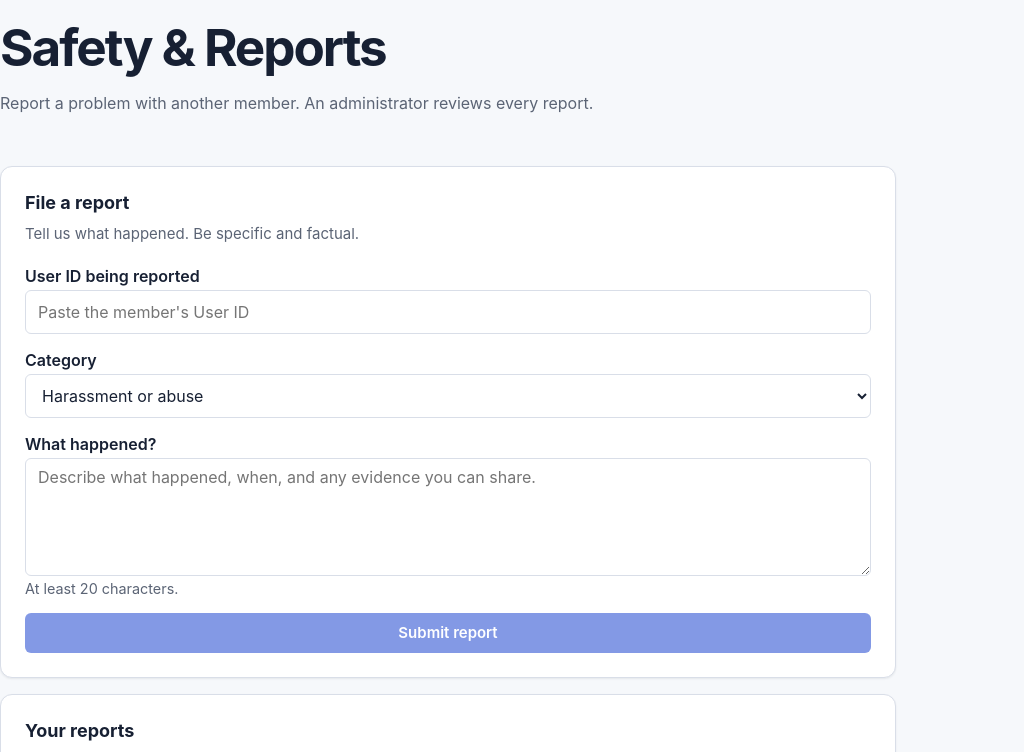
Test: integration: reports and safety page › files a real report and lists it with a status badge
In the field with placeholder "Paste the member's User ID": point(448, 312) x1=25 y1=290 x2=871 y2=334, type "00000000-0000-4000-8000-0000000000a1"
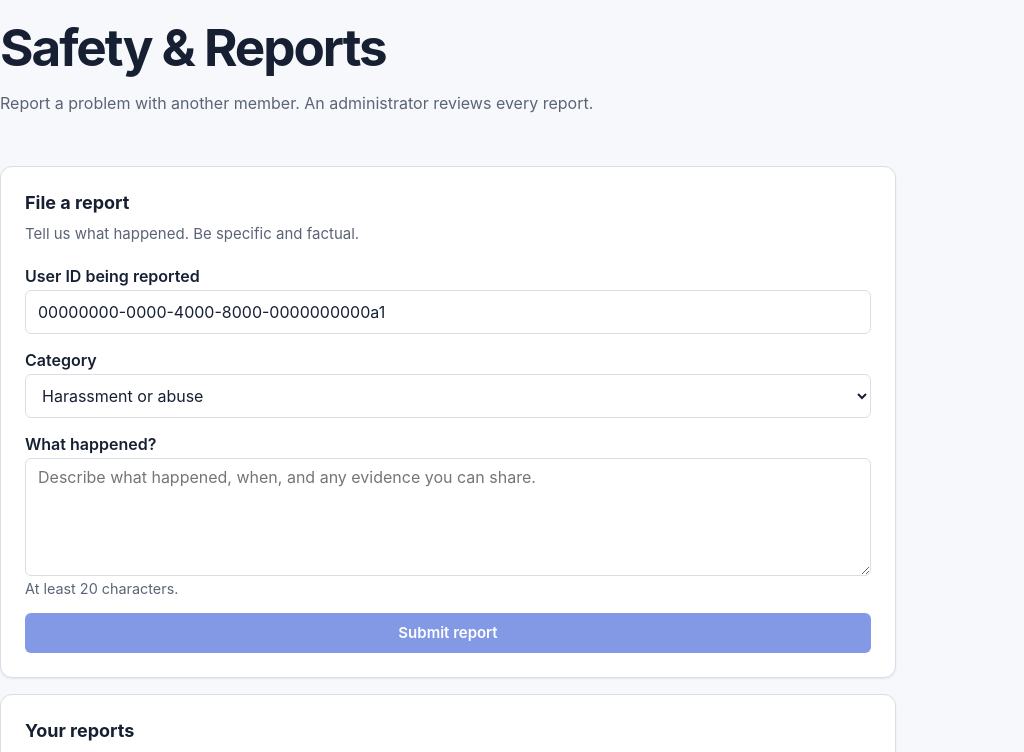
Replace the text in the text box with placeholder "Describe what happened" with "This member repeatedly sent abusive messages to me.": point(448, 517) x1=25 y1=458 x2=871 y2=576
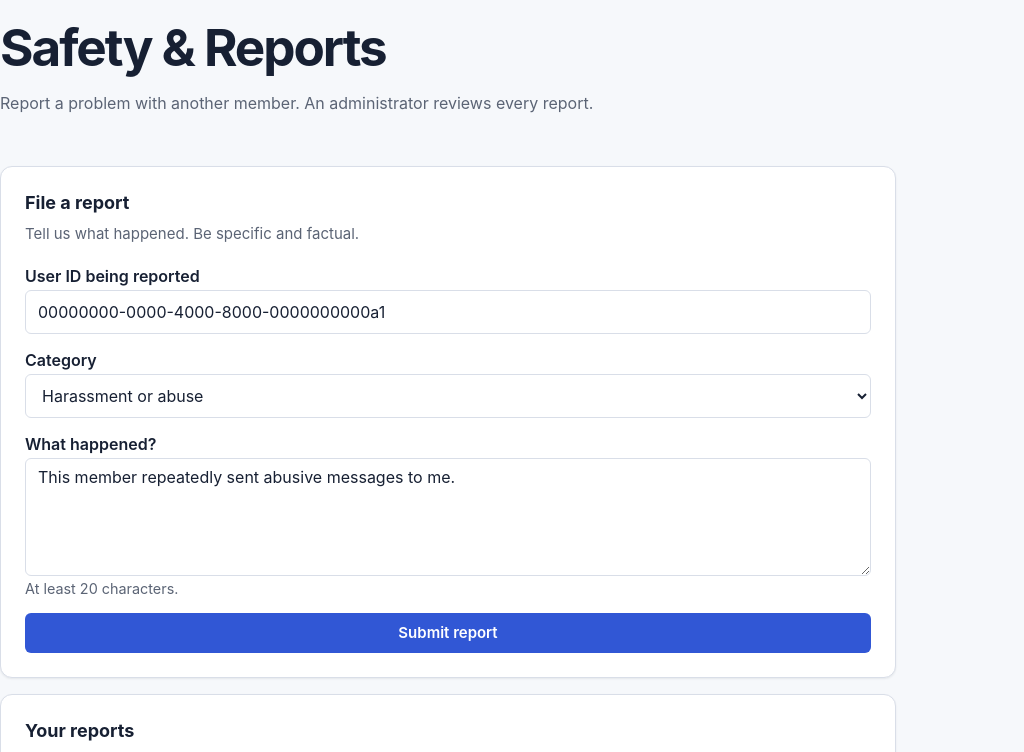
Click the button "Submit report": point(448, 633) x1=25 y1=613 x2=871 y2=653
(page scrolled)
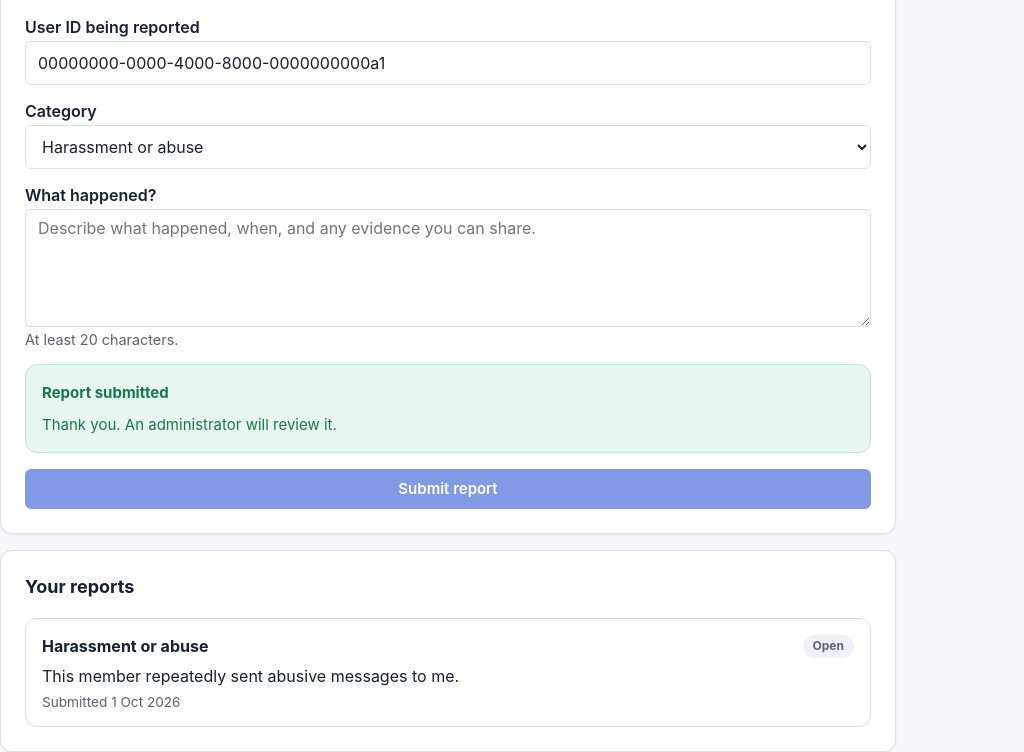
Expected: the text "Report submitted" is shown, x1=42 y1=383 x2=169 y2=402
Expected: the text "This member repeatedly sent abusive messages to me." is shown, x1=42 y1=666 x2=459 y2=686
Expected: the text "Open" is shown, x1=803 y1=635 x2=854 y2=658
